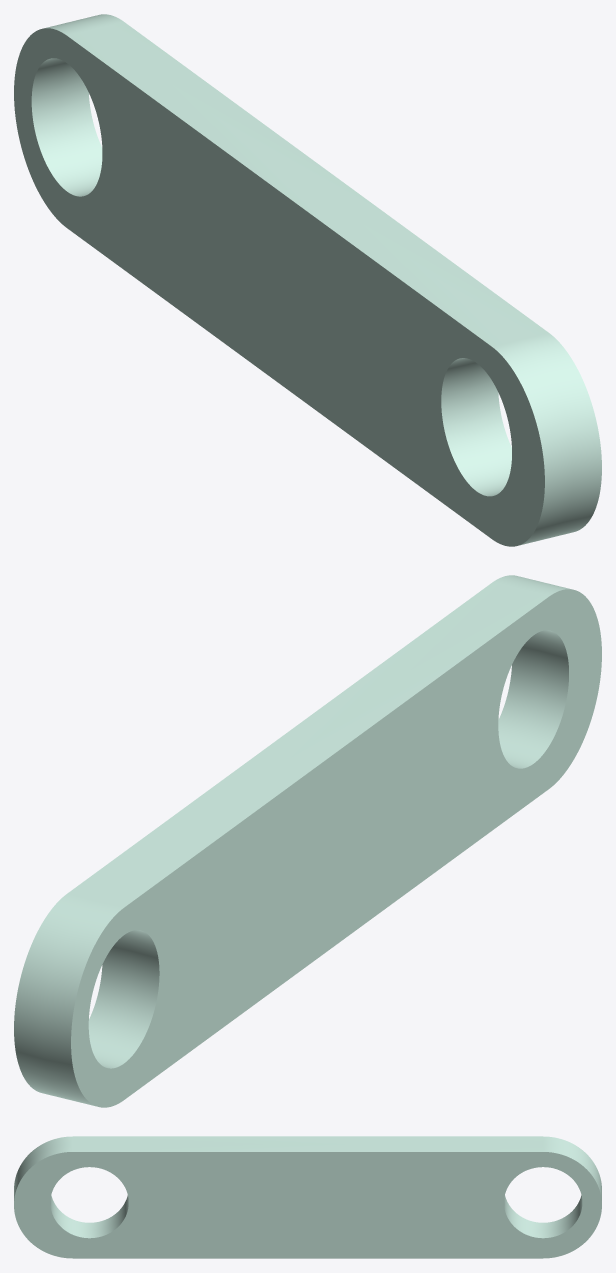
The picture shows the model from 3 angles, top to bottom: view 1: azimuth 30°, elevation 25°; view 2: azimuth 150°, elevation 25°; view 3: azimuth 270°, elevation 25°; orthographic projection. The views are drawn at different scales.
Parts seen in each view (by area): view 1: Renderer Node; view 2: Renderer Node; view 3: Renderer Node.
Boxes of the visible parts, x1,y1,x2,y2 form: Renderer Node: [14, 14, 601, 546]; Renderer Node: [14, 575, 601, 1107]; Renderer Node: [14, 1136, 601, 1258].
Bounding box in the file's own units: 0.0938 × 0.3022 × 1.51.
